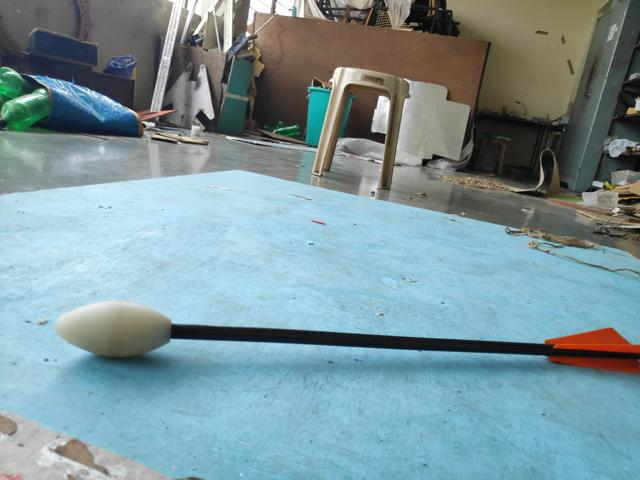Head: (54, 297, 175, 361)
Tail: (540, 322, 640, 374)
